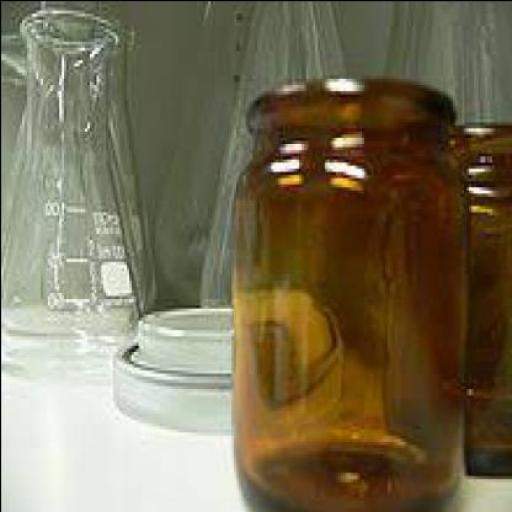glass: (232, 74, 468, 509), (2, 6, 152, 369), (199, 1, 352, 304), (155, 1, 250, 298), (465, 118, 511, 479), (379, 1, 511, 123)
plastic: (114, 342, 236, 432), (142, 298, 247, 363)
